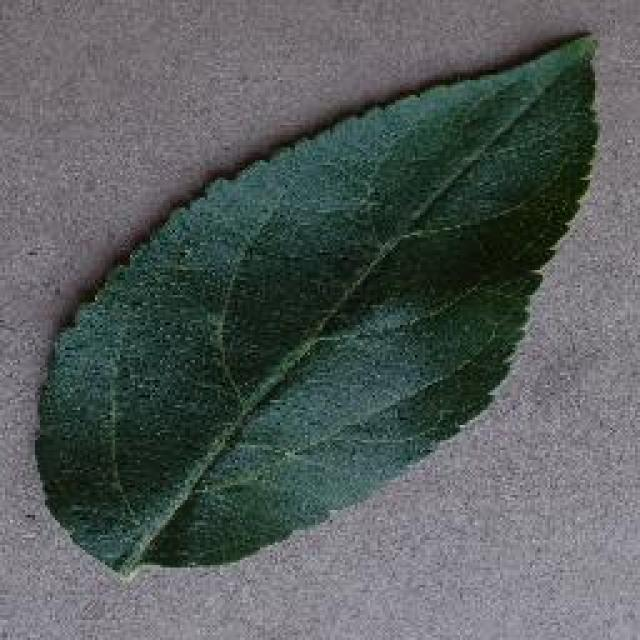apple healthy: (30, 28, 602, 578)
